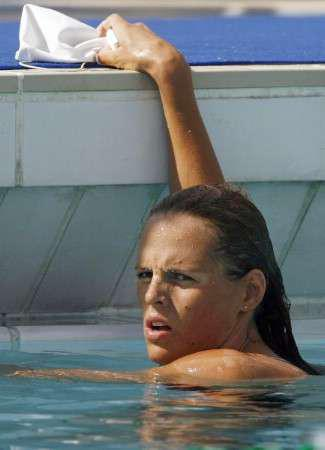human: (100, 18, 312, 394)
